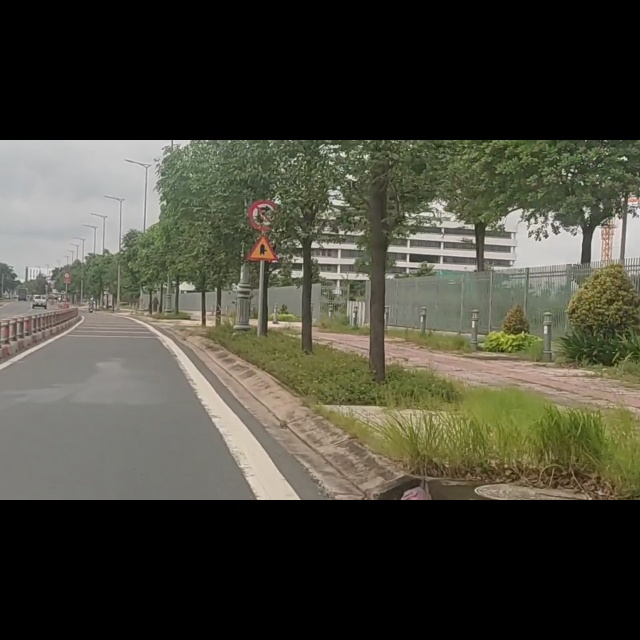bien_nguy_hiem: (247, 166, 278, 218), (247, 109, 279, 159)
